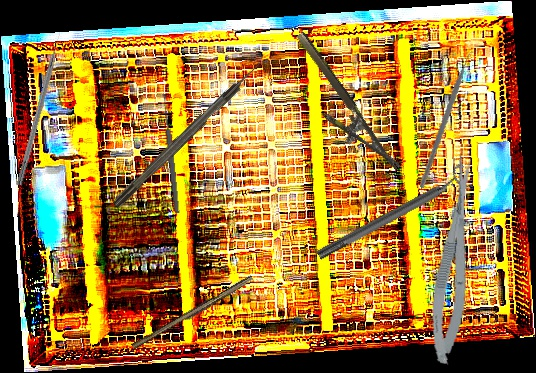Chopper: (394, 48, 507, 189)
Fixation Ring: (311, 162, 475, 267)
Hook Surgical: (110, 58, 267, 209), (16, 30, 65, 187)
Micro Scissor: (423, 154, 486, 366)
Needle Holder: (277, 30, 401, 186)
Scalpel Handle: (131, 273, 255, 353)
Surgical Spoon: (161, 93, 181, 214)
